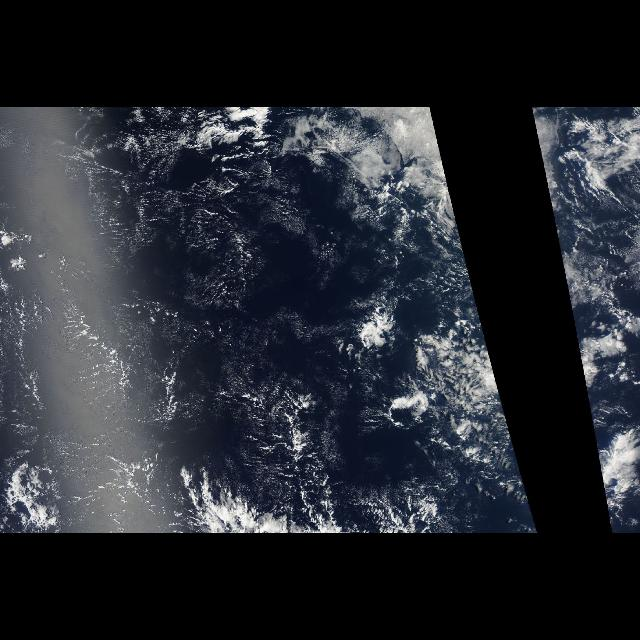Gravel: (61, 193, 429, 475)
Sugar: (9, 164, 343, 470)
